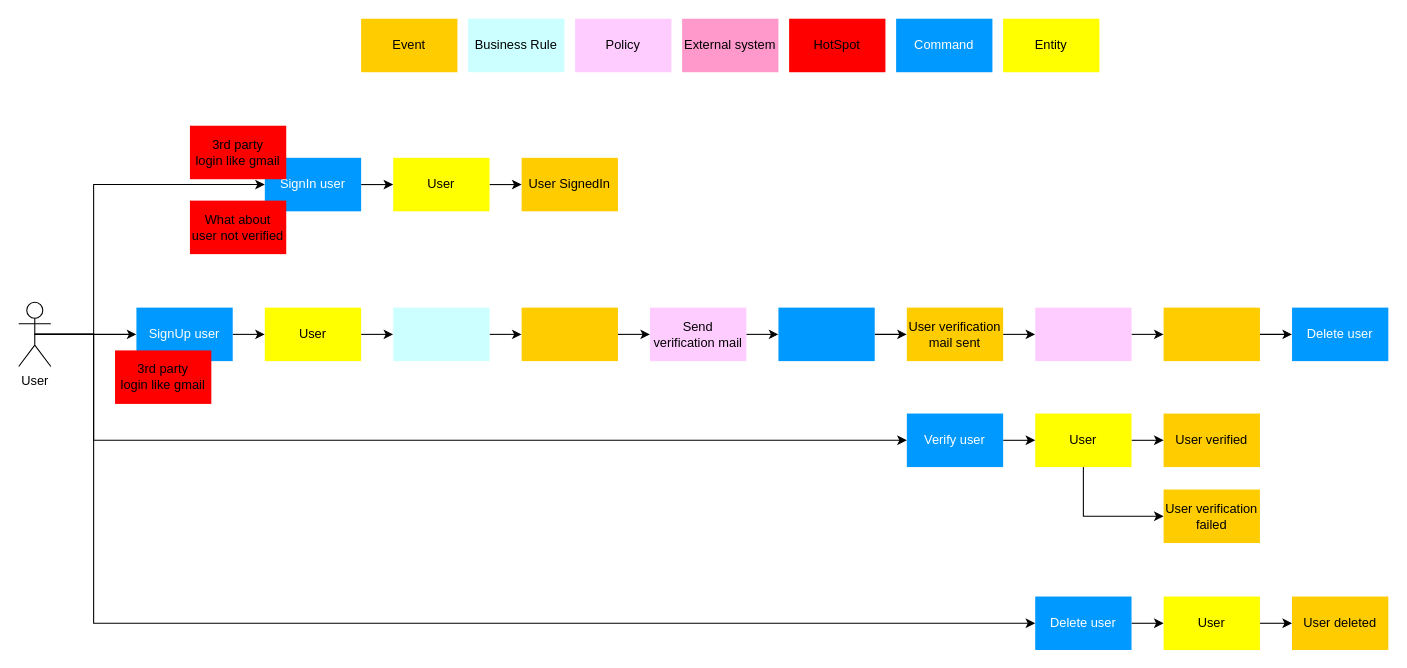
This 1407x668 diagram has some shape labels left out. Here are the shapes that lost their labels. From the top down, the box of each, then its label:
(393, 307, 489, 361): User email is unique
(521, 307, 617, 361): User SignedUp
(778, 307, 874, 361): Send user verification mail
(1035, 307, 1131, 361): 24 hours link timeout
(1163, 307, 1259, 361): User verification mail timed out
